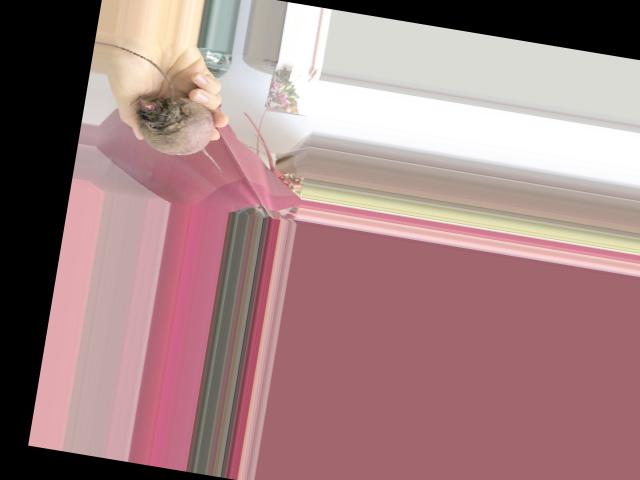beet: (95, 44, 240, 173)
